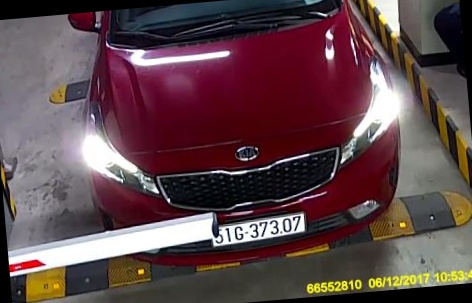plate: (210, 210, 311, 249)
